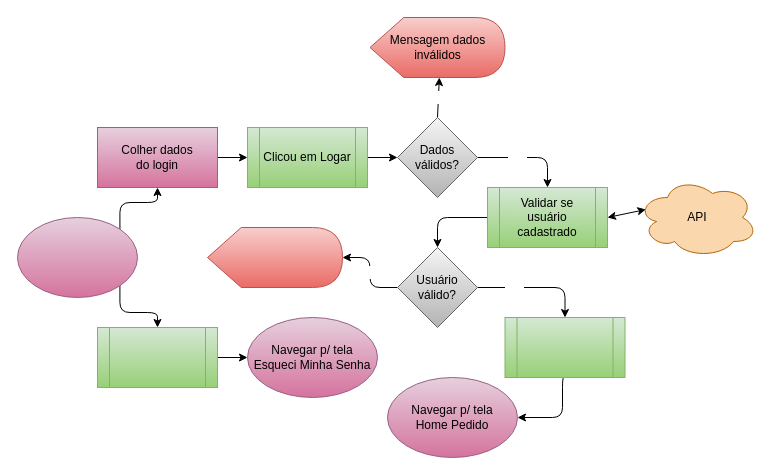
The diagram is 775 pixels wide and 475 high, and some of its shapes have lost their labels. Each missing label, with the centre of its shape:
Armazenar token na memória: point (564, 347)
Clicou em Esqueci Minha Senha: point (157, 357)
Mensagem usuário inválido: point (274, 257)
Tela Login: point (77, 257)
